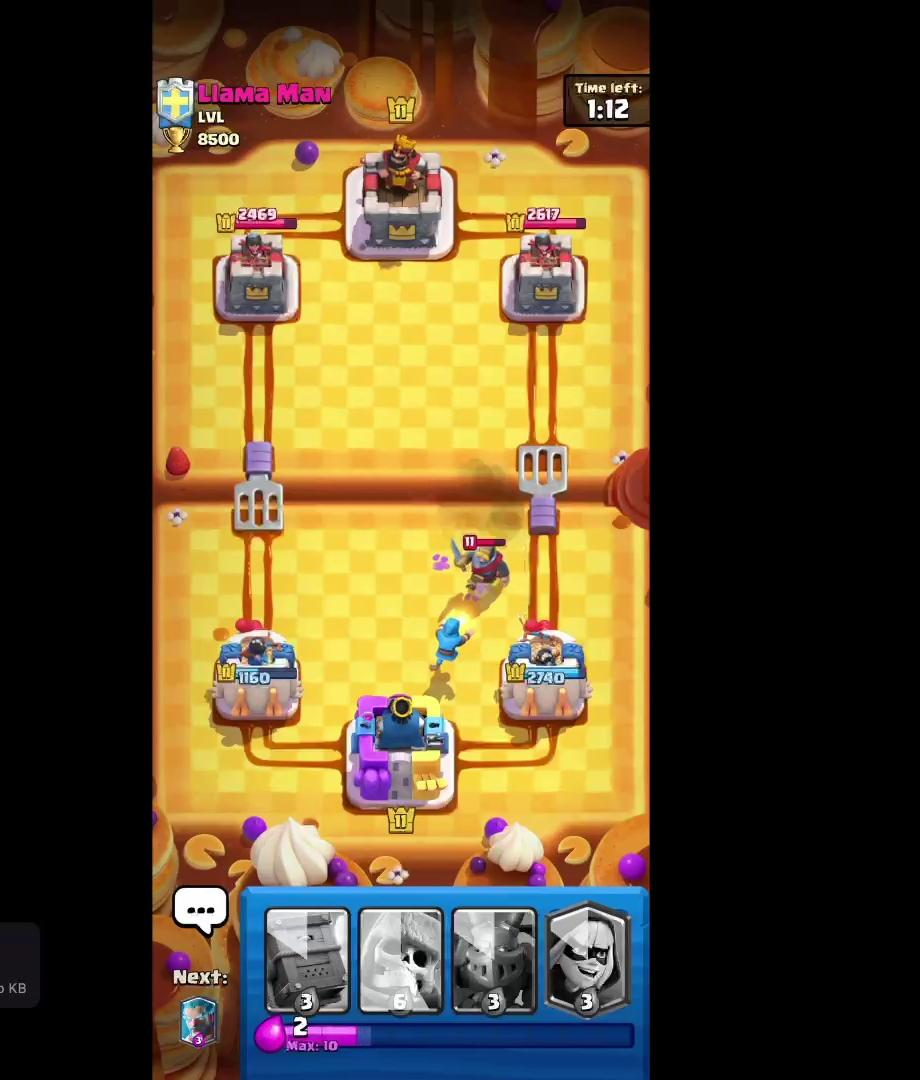Knight: (449, 532, 514, 595)
